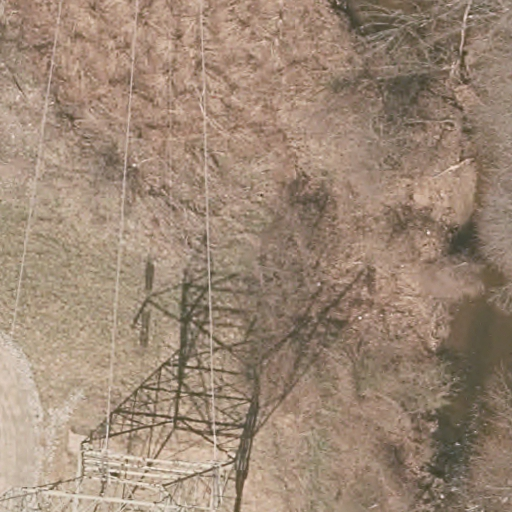TT: (1, 436, 248, 510)
